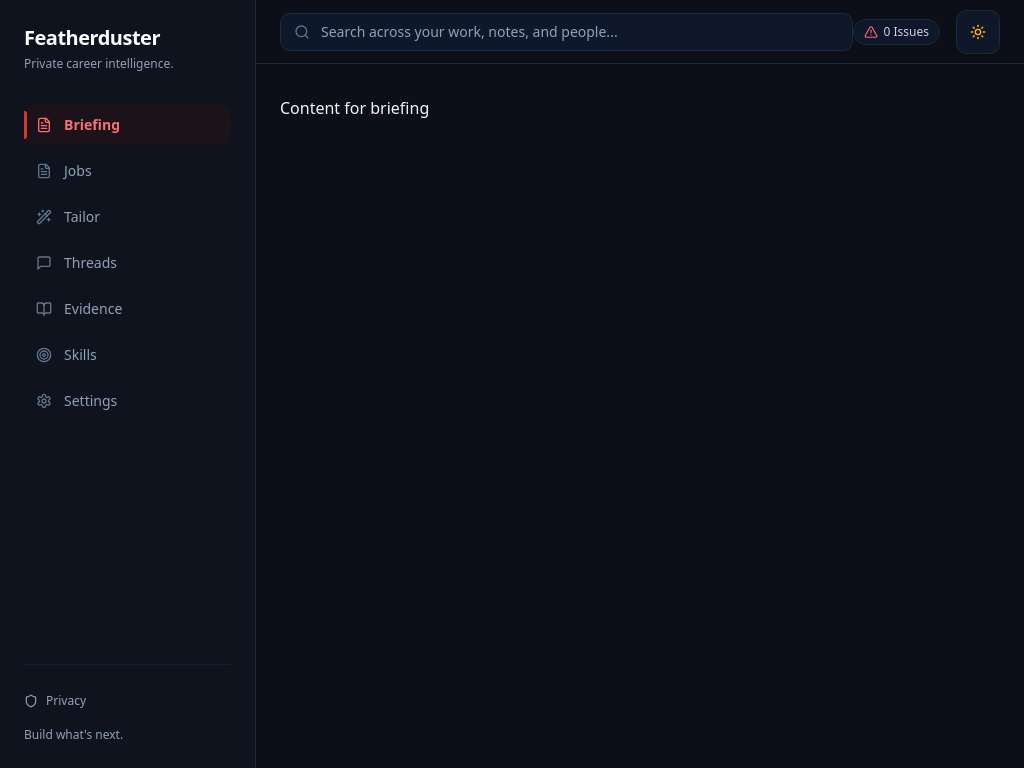
Desk Layout and Navigation Shell › opens onboarding foundation modal and allows dismissal
# Onboarding trigger or auto-modal for first run
Click the button "Privacy" at [128, 700], box left=24, top=688, right=231, bottom=712
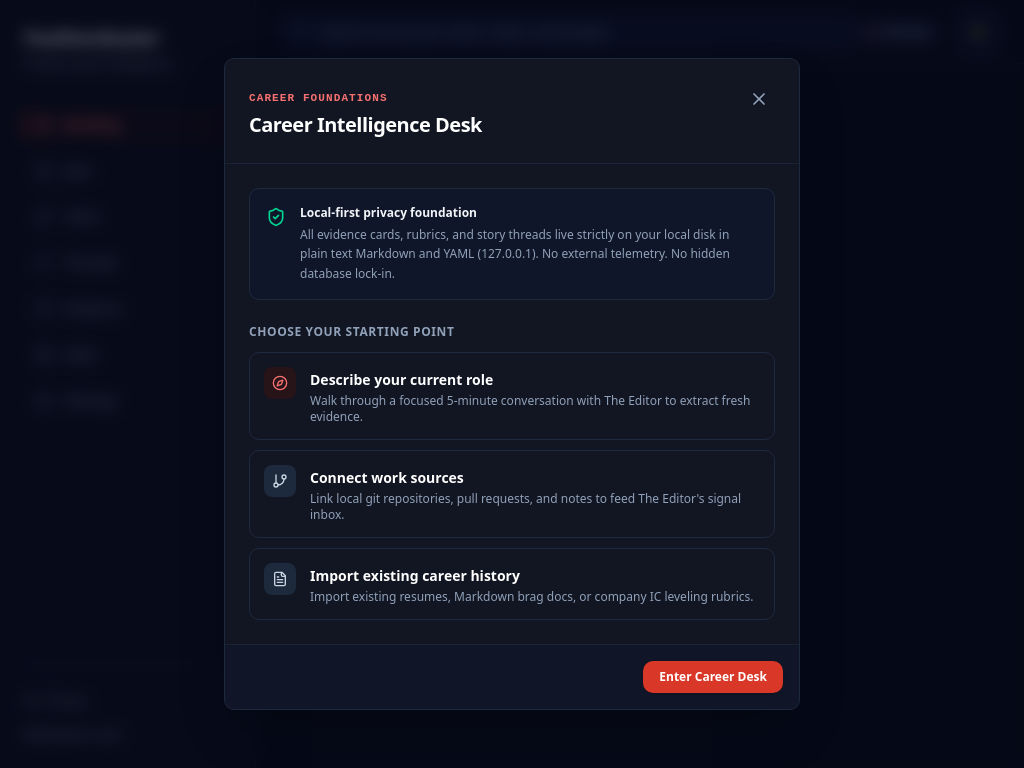
Expected: the heading "Career Intelligence Desk" is shown, left=249, top=111, right=482, bottom=139
Expected: the heading "Local-first privacy foundation" is shown, left=300, top=204, right=477, bottom=221
Click the button "Enter Career Desk" at [713, 677], box left=643, top=661, right=783, bottom=693
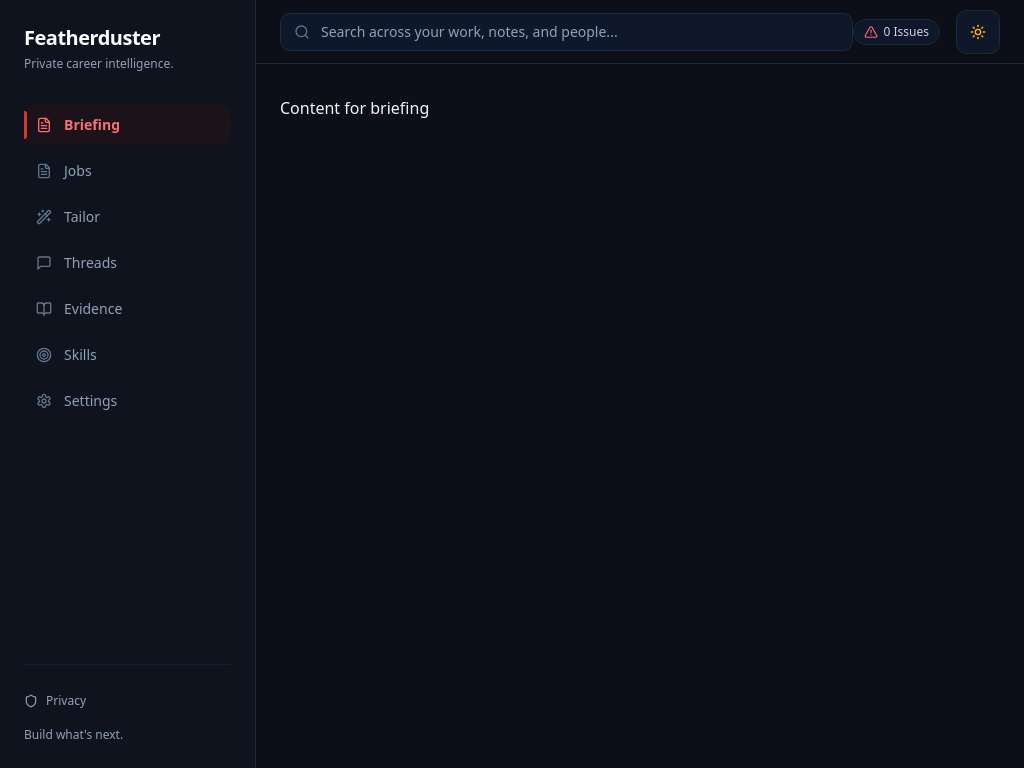
Expected: the heading "Local-first privacy foundation" is gone
